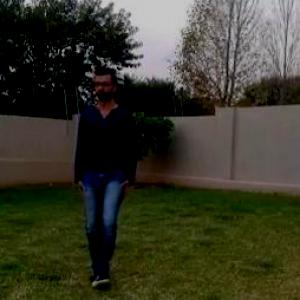follow: (73, 57, 131, 286)
